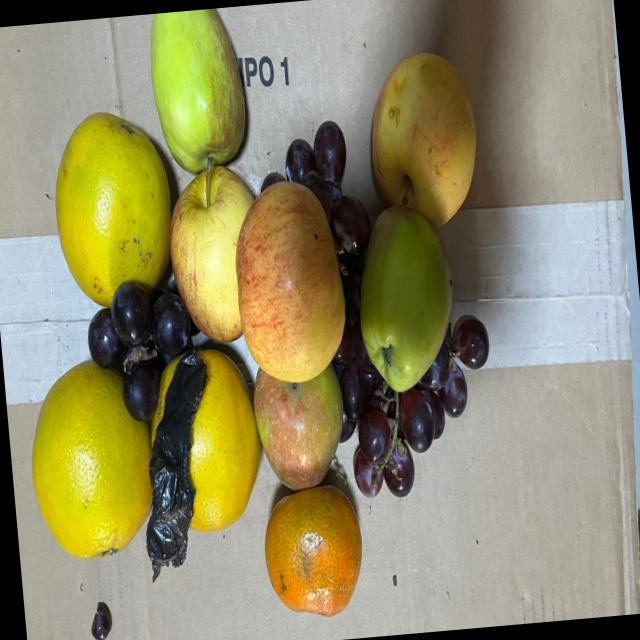bolsa_negra: (132, 352, 215, 558)
